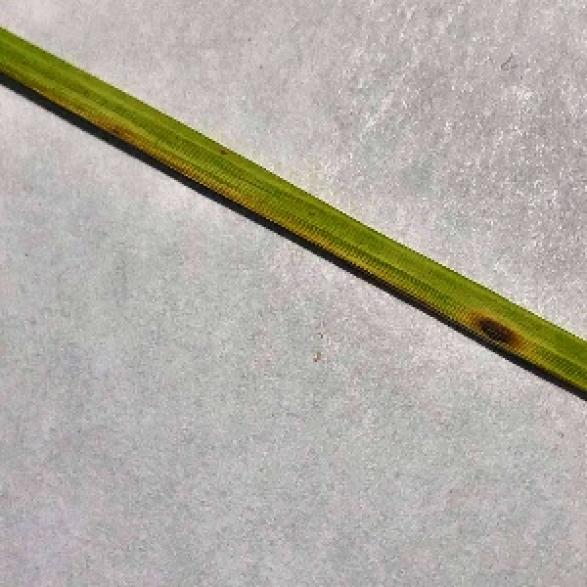Leaf_smut: (452, 295, 556, 370)
